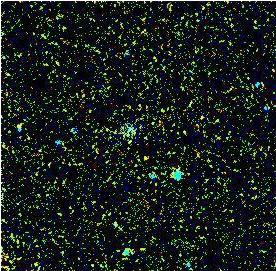star: (134, 139, 164, 169)
